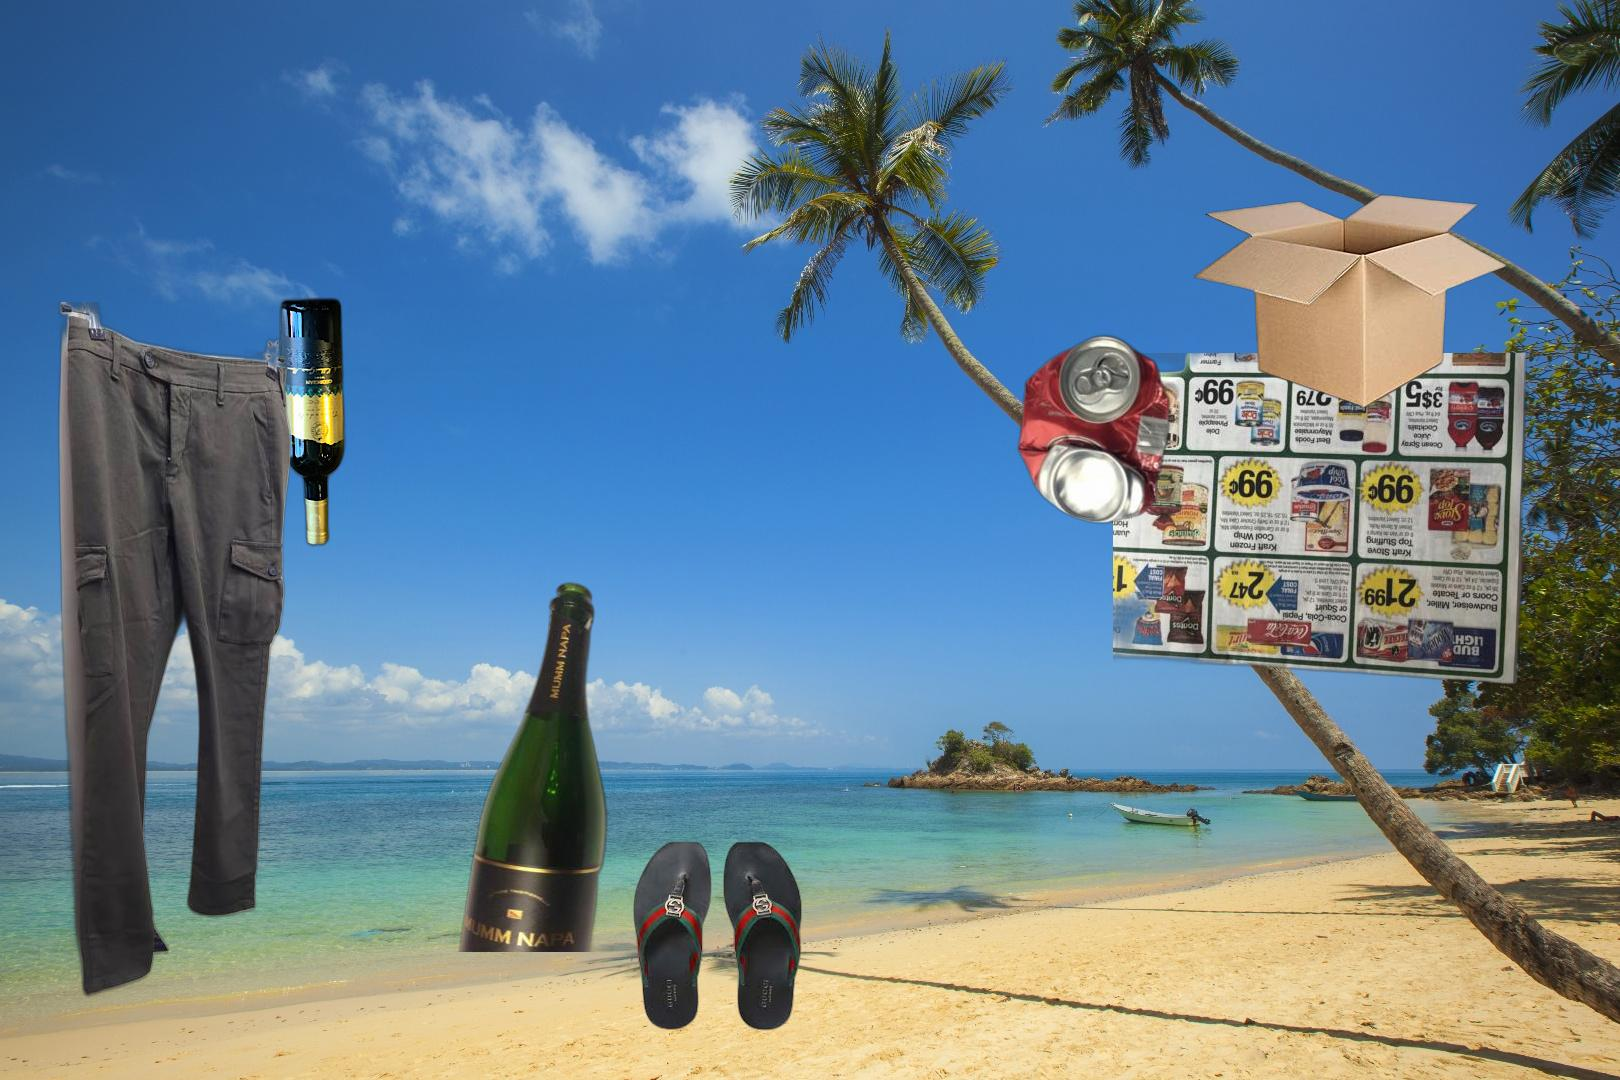clothes: (52, 303, 293, 1002)
glass: (456, 580, 611, 952), (270, 292, 350, 551)
metal-cans: (1012, 331, 1174, 526)
paper: (1113, 353, 1531, 688)
shoes: (630, 839, 804, 1033)
trashbox-cardboard: (1191, 192, 1509, 411)
